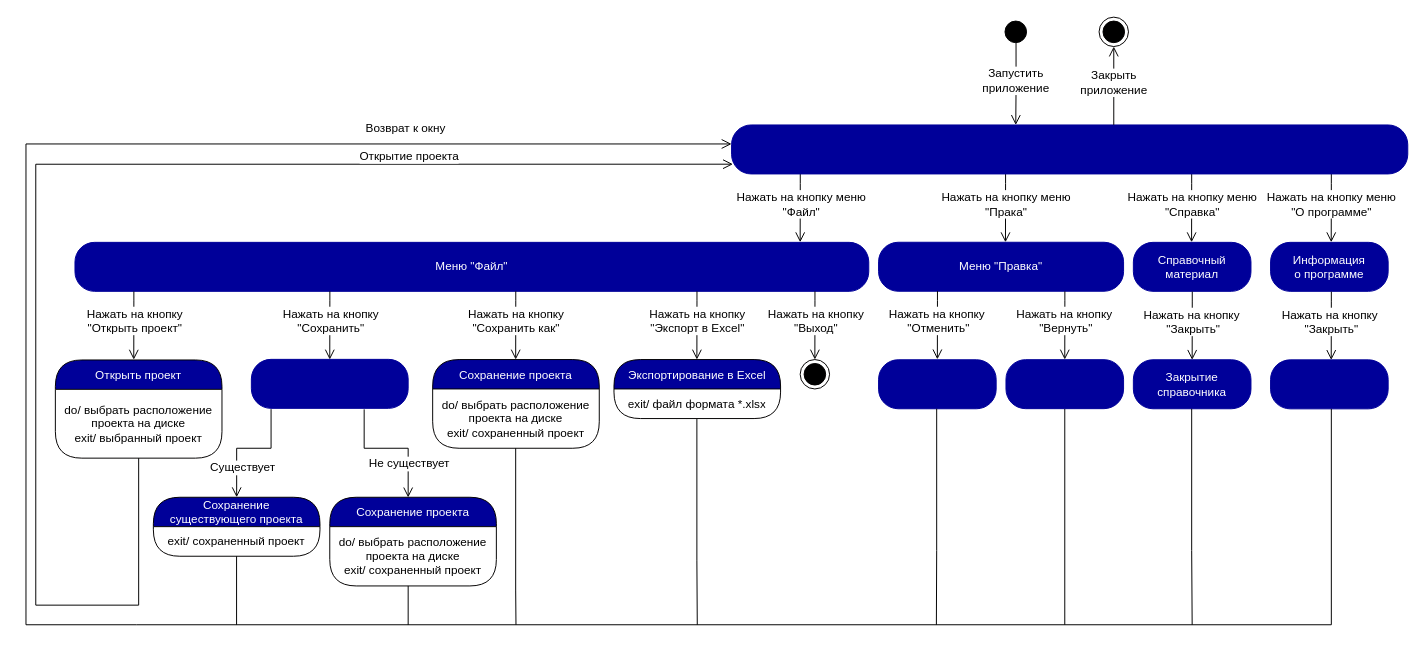
Image size: 1425x652. Some labels were removed from this diagram. Here are the shapes that lost their labels. From the top down, the centre of each, then its label:
point (1069, 149): Главное окно
point (329, 383): Проверка - существует ли проект
point (937, 384): Возврат к предыдущему действию
point (1064, 384): Возврат к следующему действию
point (1329, 384): Закрытие информации о программе
